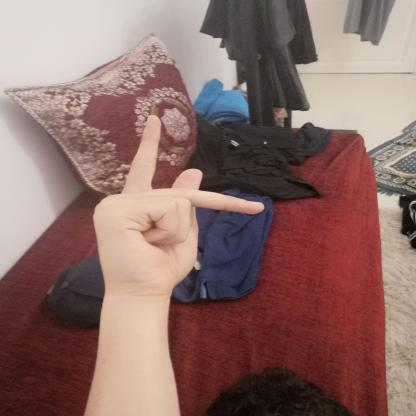DHAA: (81, 100, 276, 302)
